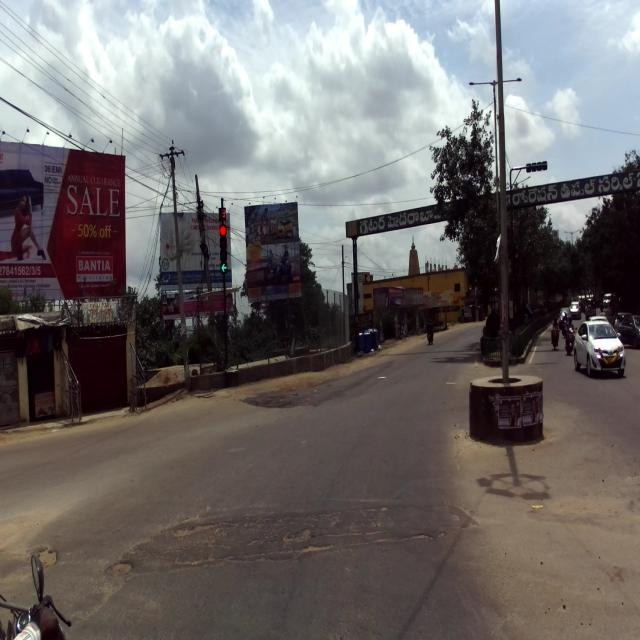car: (571, 317, 627, 377)
